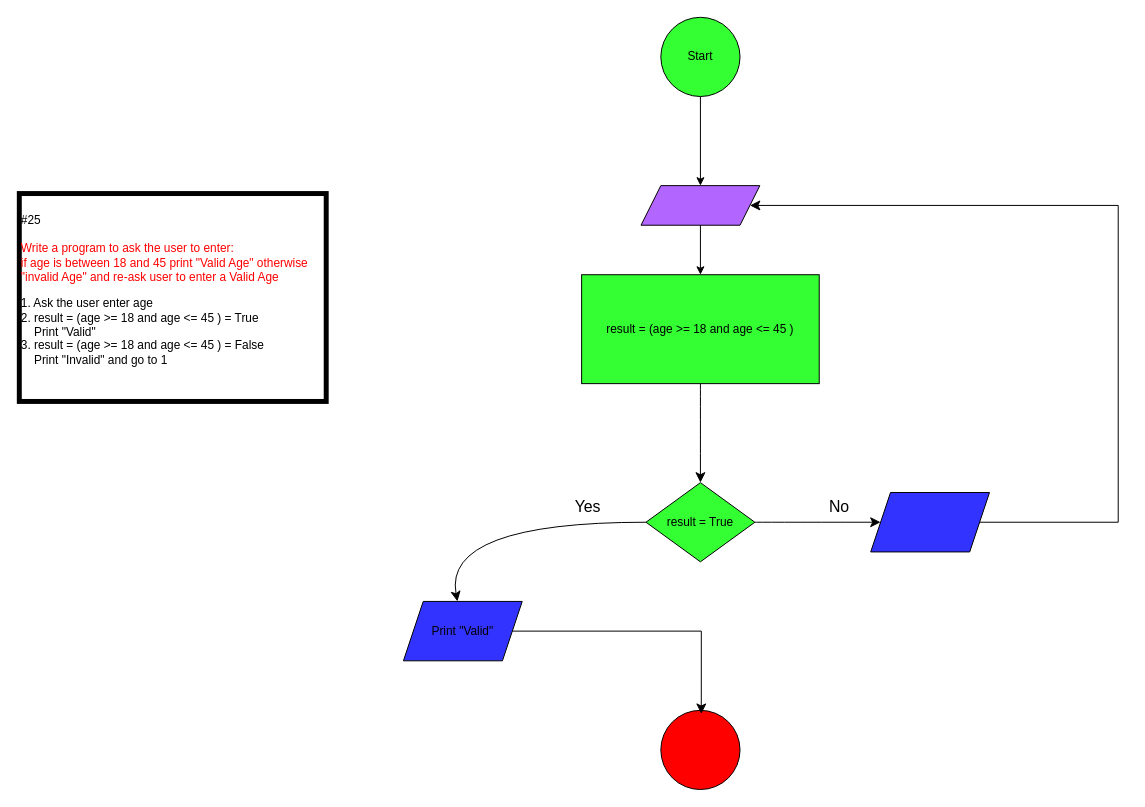
Image size: 1145x807. Some labels were removed from this diagram. Each missing label, with the box of its shape:
End: (660, 709, 740, 790)
Print "Invalid": (870, 492, 990, 552)
Read age: (640, 185, 760, 225)
